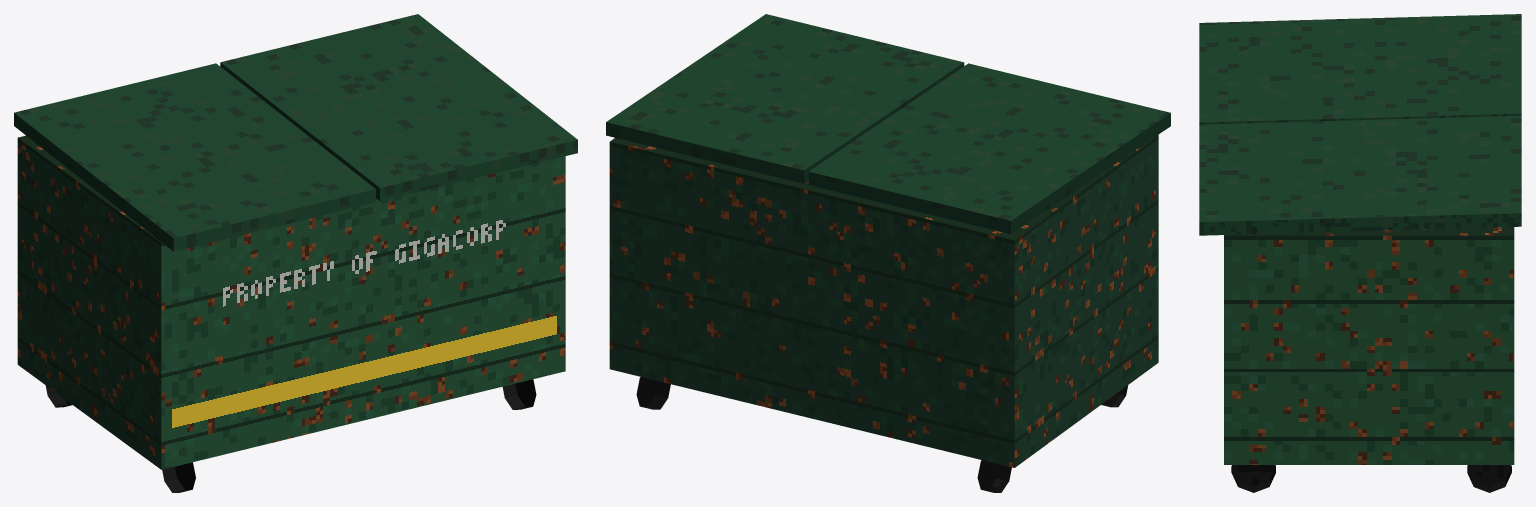
The model's file is dumpster.glb.
3 renders of one model, left to right at view 1: azimuth 30°, elevation 25°; view 2: azimuth 150°, elevation 25°; view 3: azimuth 270°, elevation 25°, orthographic.
Parts seen in each view (by area): view 1: prop; view 2: prop; view 3: prop.
Part boxes in pixels (box(x1,y1,x2,y2)): prop: box(14, 14, 577, 492); prop: box(606, 14, 1170, 492); prop: box(1199, 14, 1521, 492).
Bounding box in the file's own units: 1.9 × 1.3 × 1.3.
1 material, 1 textured.
